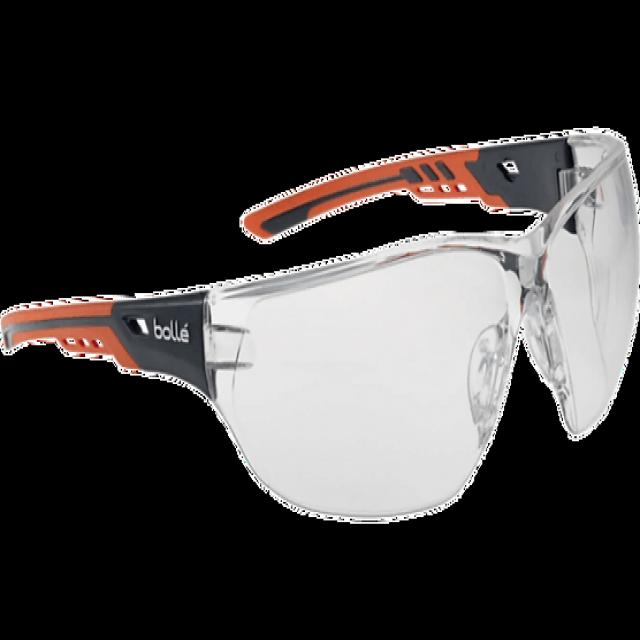Protective Glasses: (6, 55, 638, 522)
